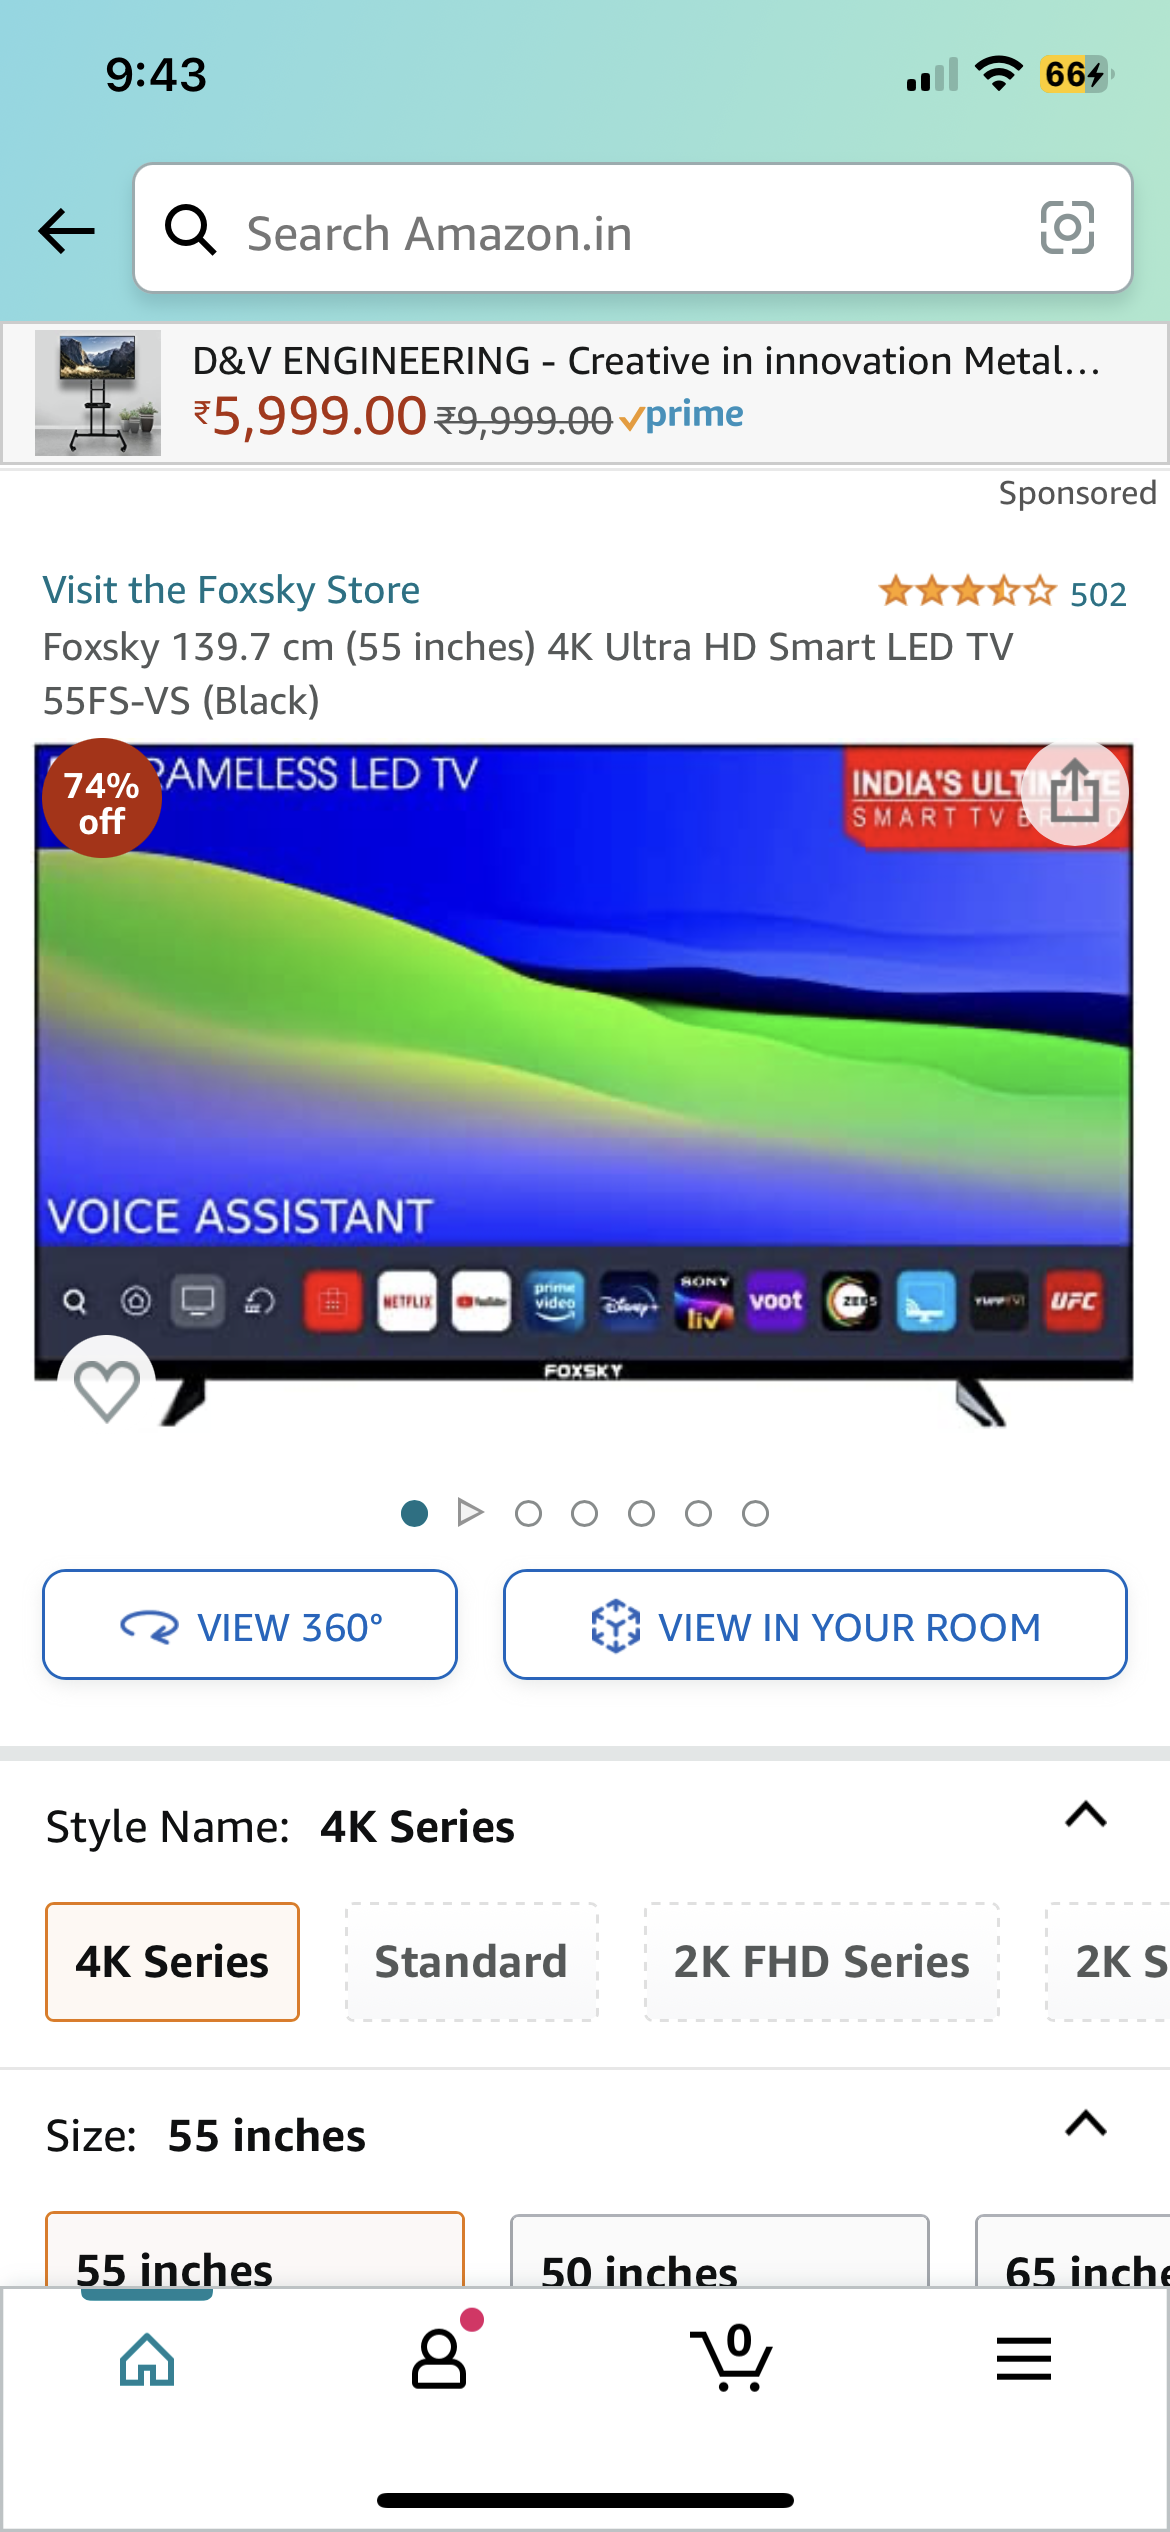LEDTV: (36, 736, 1143, 1429)
